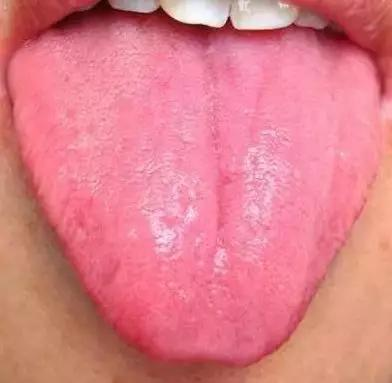hongshe: (7, 11, 382, 366)
